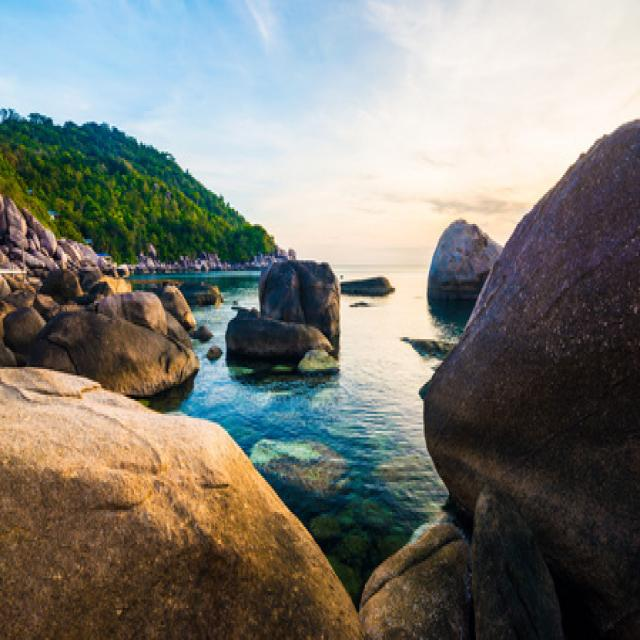island: (0, 96, 288, 275)
